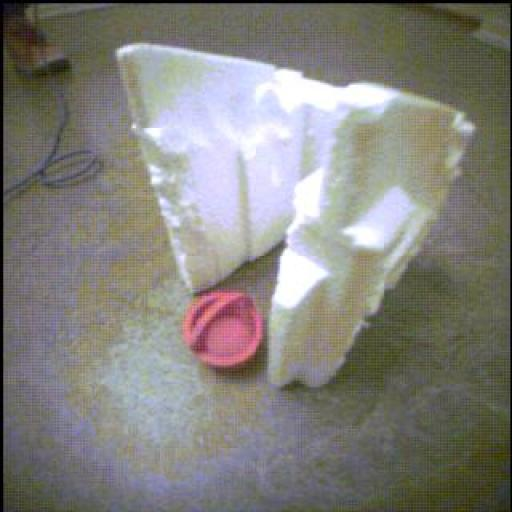Bucket: (184, 292, 264, 369)
